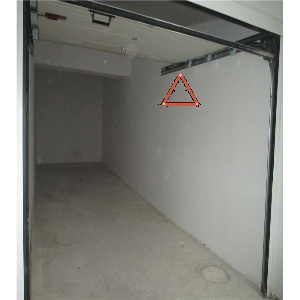triangle: (158, 71, 203, 110)
